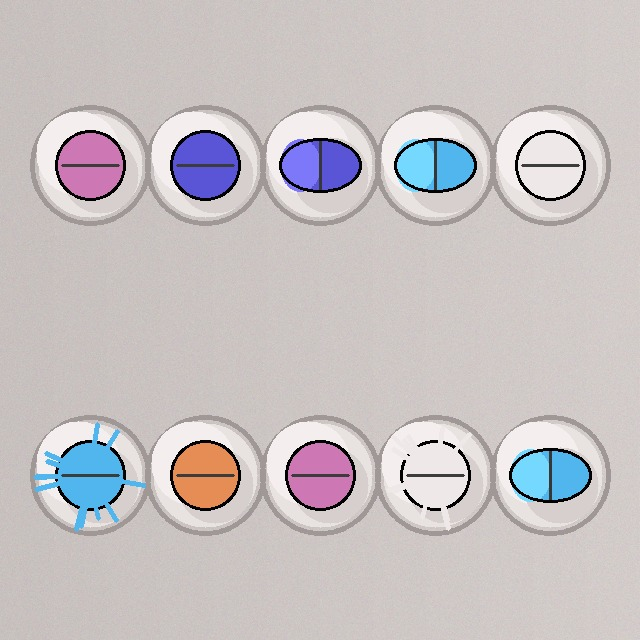flash: (28, 413, 152, 537), (373, 413, 497, 537)
